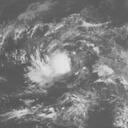cyclone: (24, 47, 73, 83)
